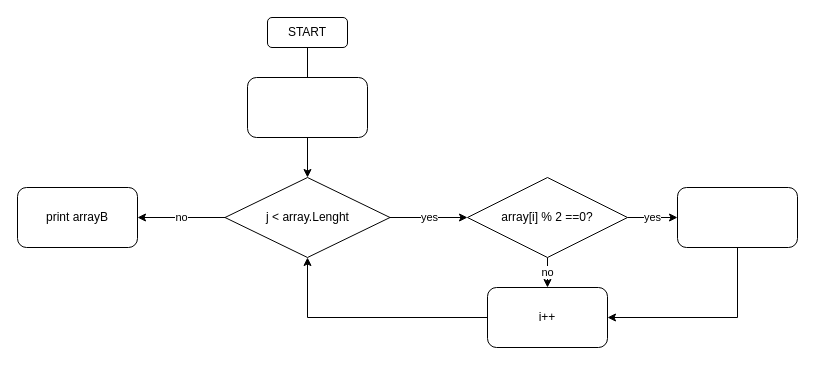
Image size: 815x365. Some labels were removed from this diagram. The box of each missing label's shape, as (x1, y1, x2, y2) in pixels:
arrayA(i) arrayB(j): (246, 76, 368, 138)
arrayB = arrayA j++: (676, 186, 798, 248)
